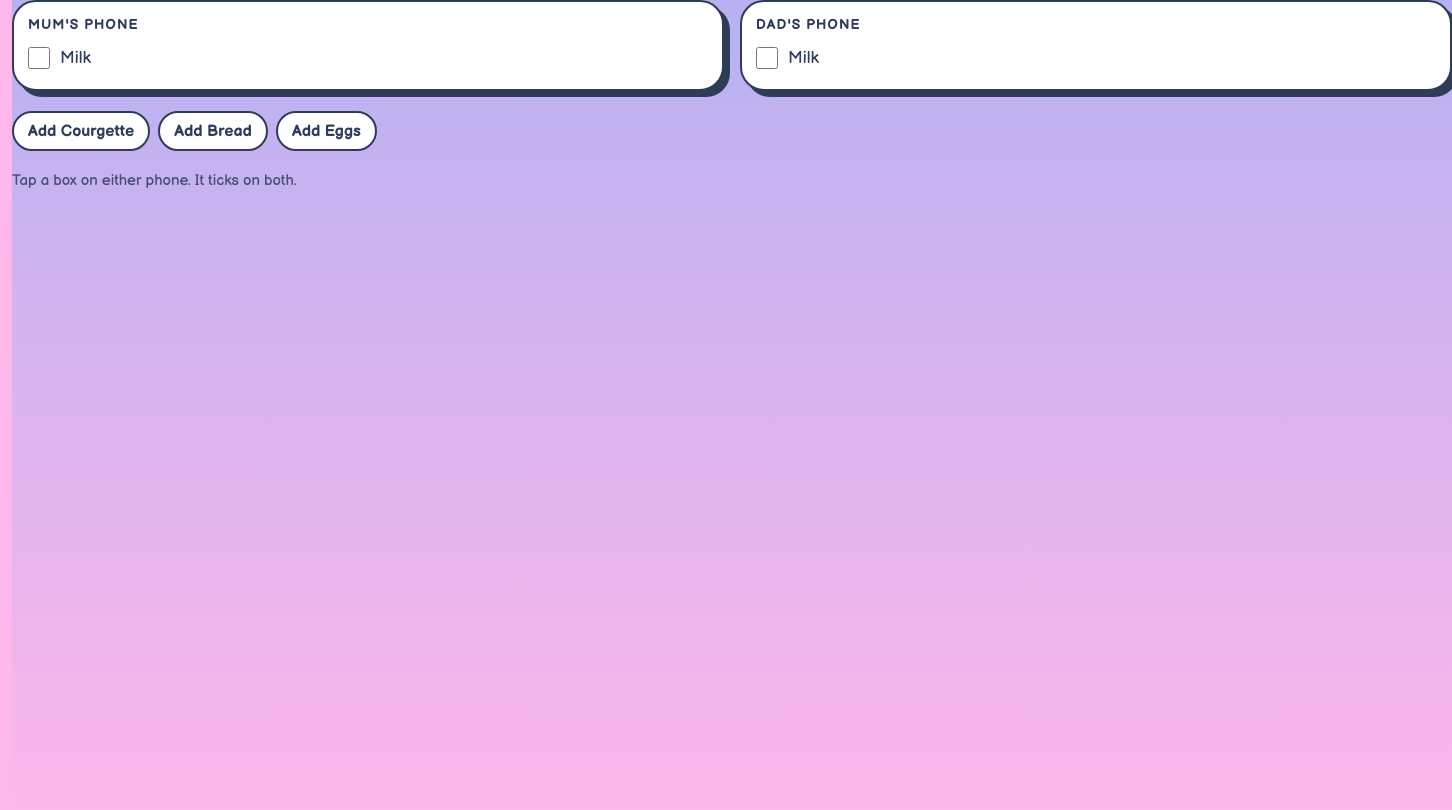
Test: SharedListDemo › puts an item added on one phone on the other phone too
Click the button "Add Courgette": (81, 131) [12,111,150,151]
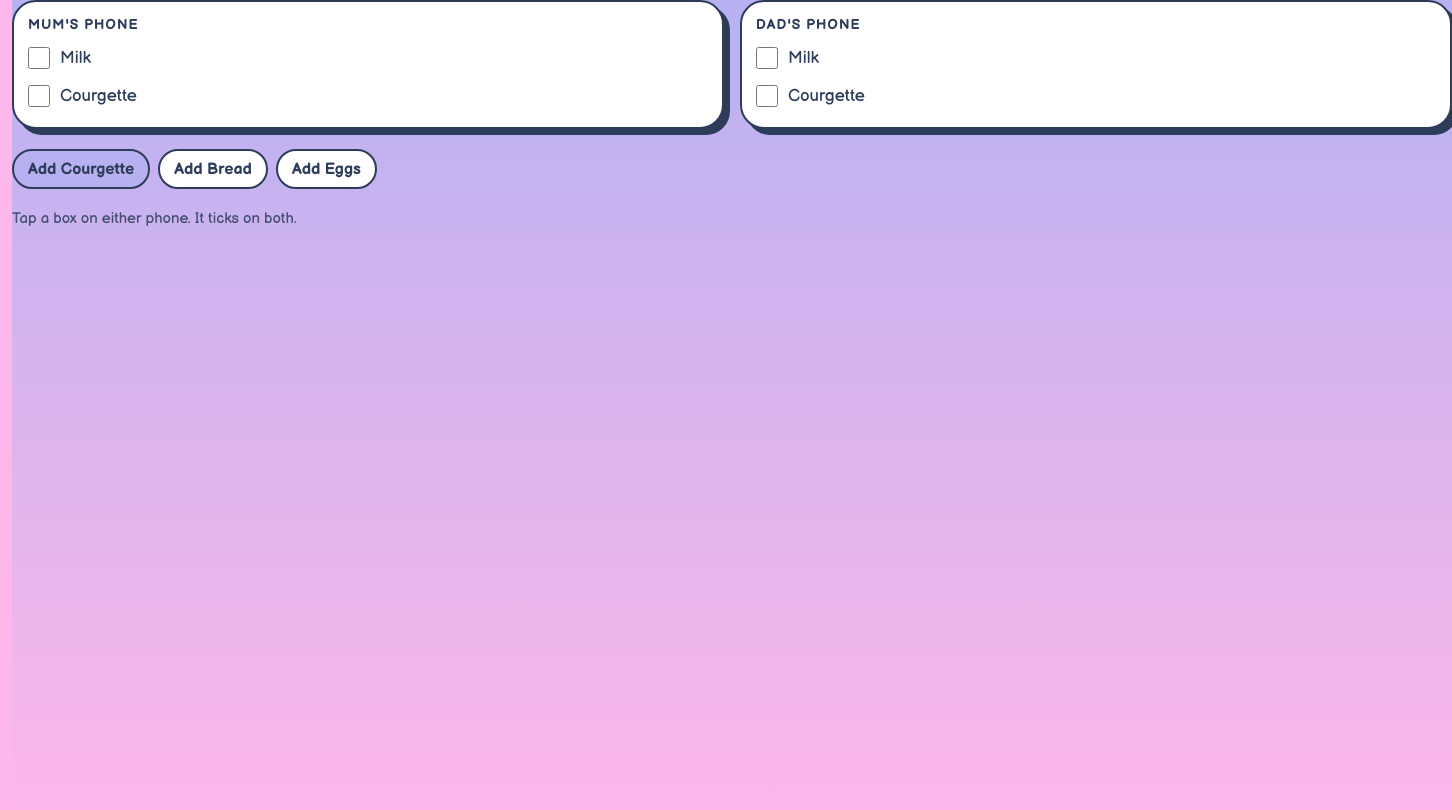
expect the number of checkboxes labelled "Courgette" is 2: met, box [28,85,50,107]; [756,85,778,107]
